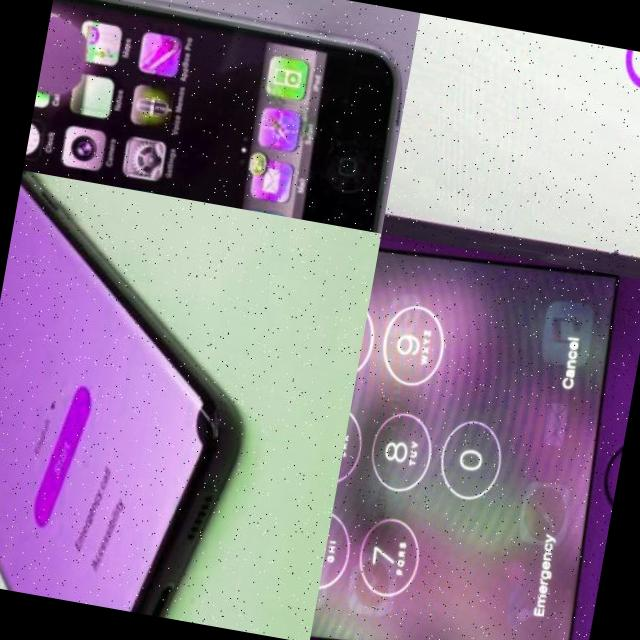dead pixel: (156, 372, 252, 482), (32, 1, 114, 124), (577, 208, 640, 279)
screen crack: (224, 44, 324, 218)
